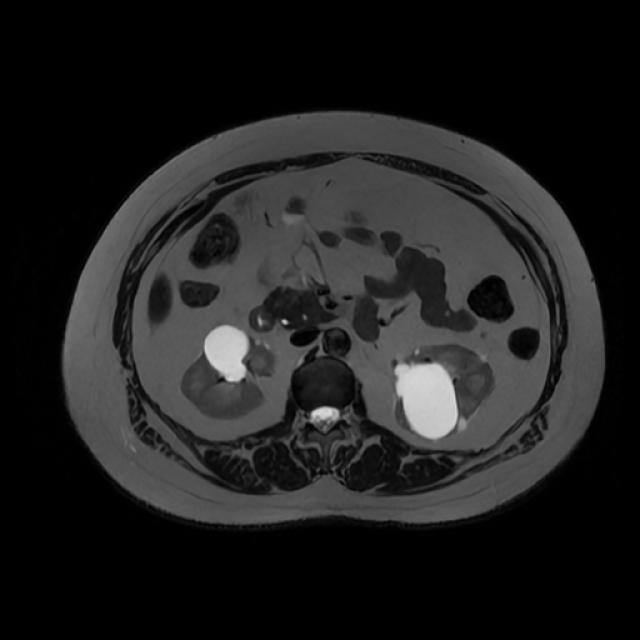sag: (179, 324, 275, 421)
sol: (391, 341, 497, 444)
